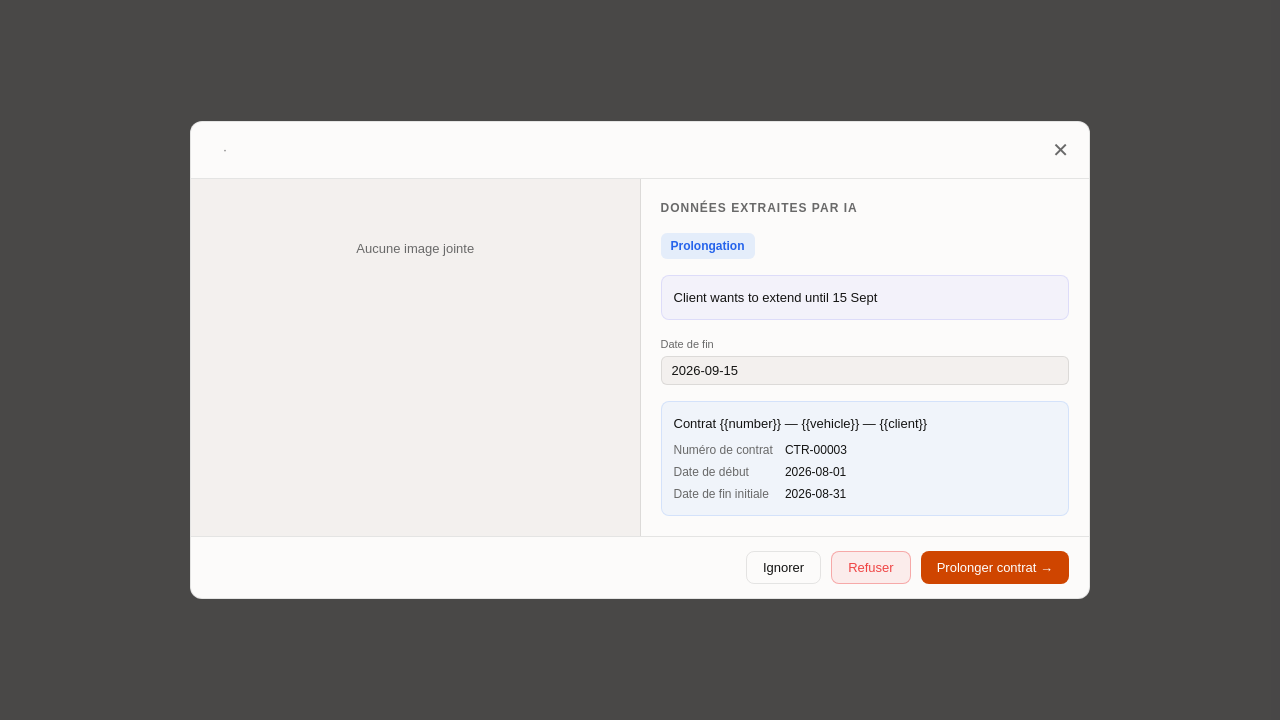
Test: LeadModal — prolongation variant › opens the ProlongationDialog when CTA clicked
Click the button "Prolonger contrat →".
click(995, 568)  # box top-left (921, 551), bottom-right (1069, 584)
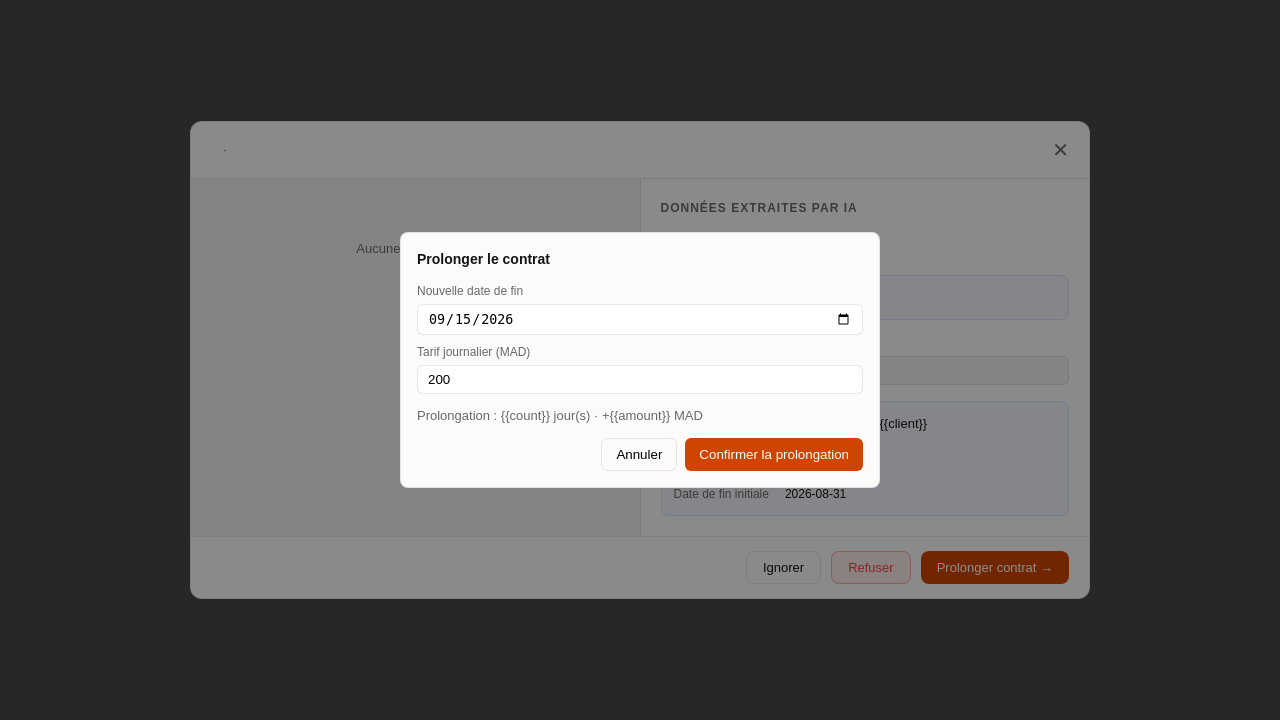
Check: the date field labelled "Nouvelle date de fin" is shown, box top-left (417, 304), bottom-right (863, 335)
